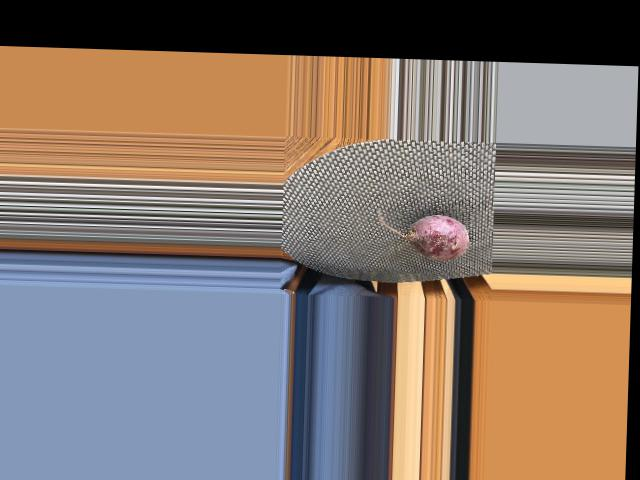beet: (376, 207, 469, 261)
